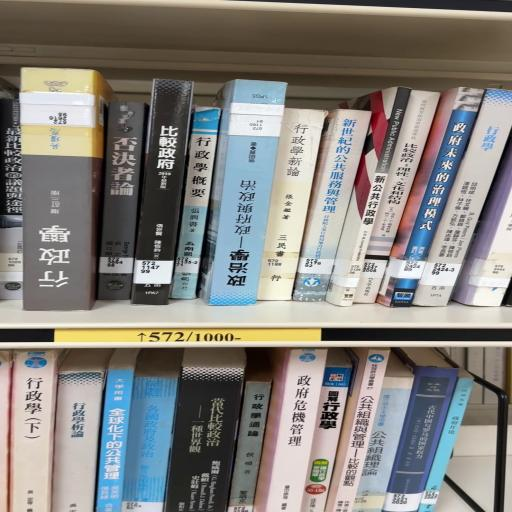reverse: (20, 69, 115, 311), (200, 80, 288, 306)
